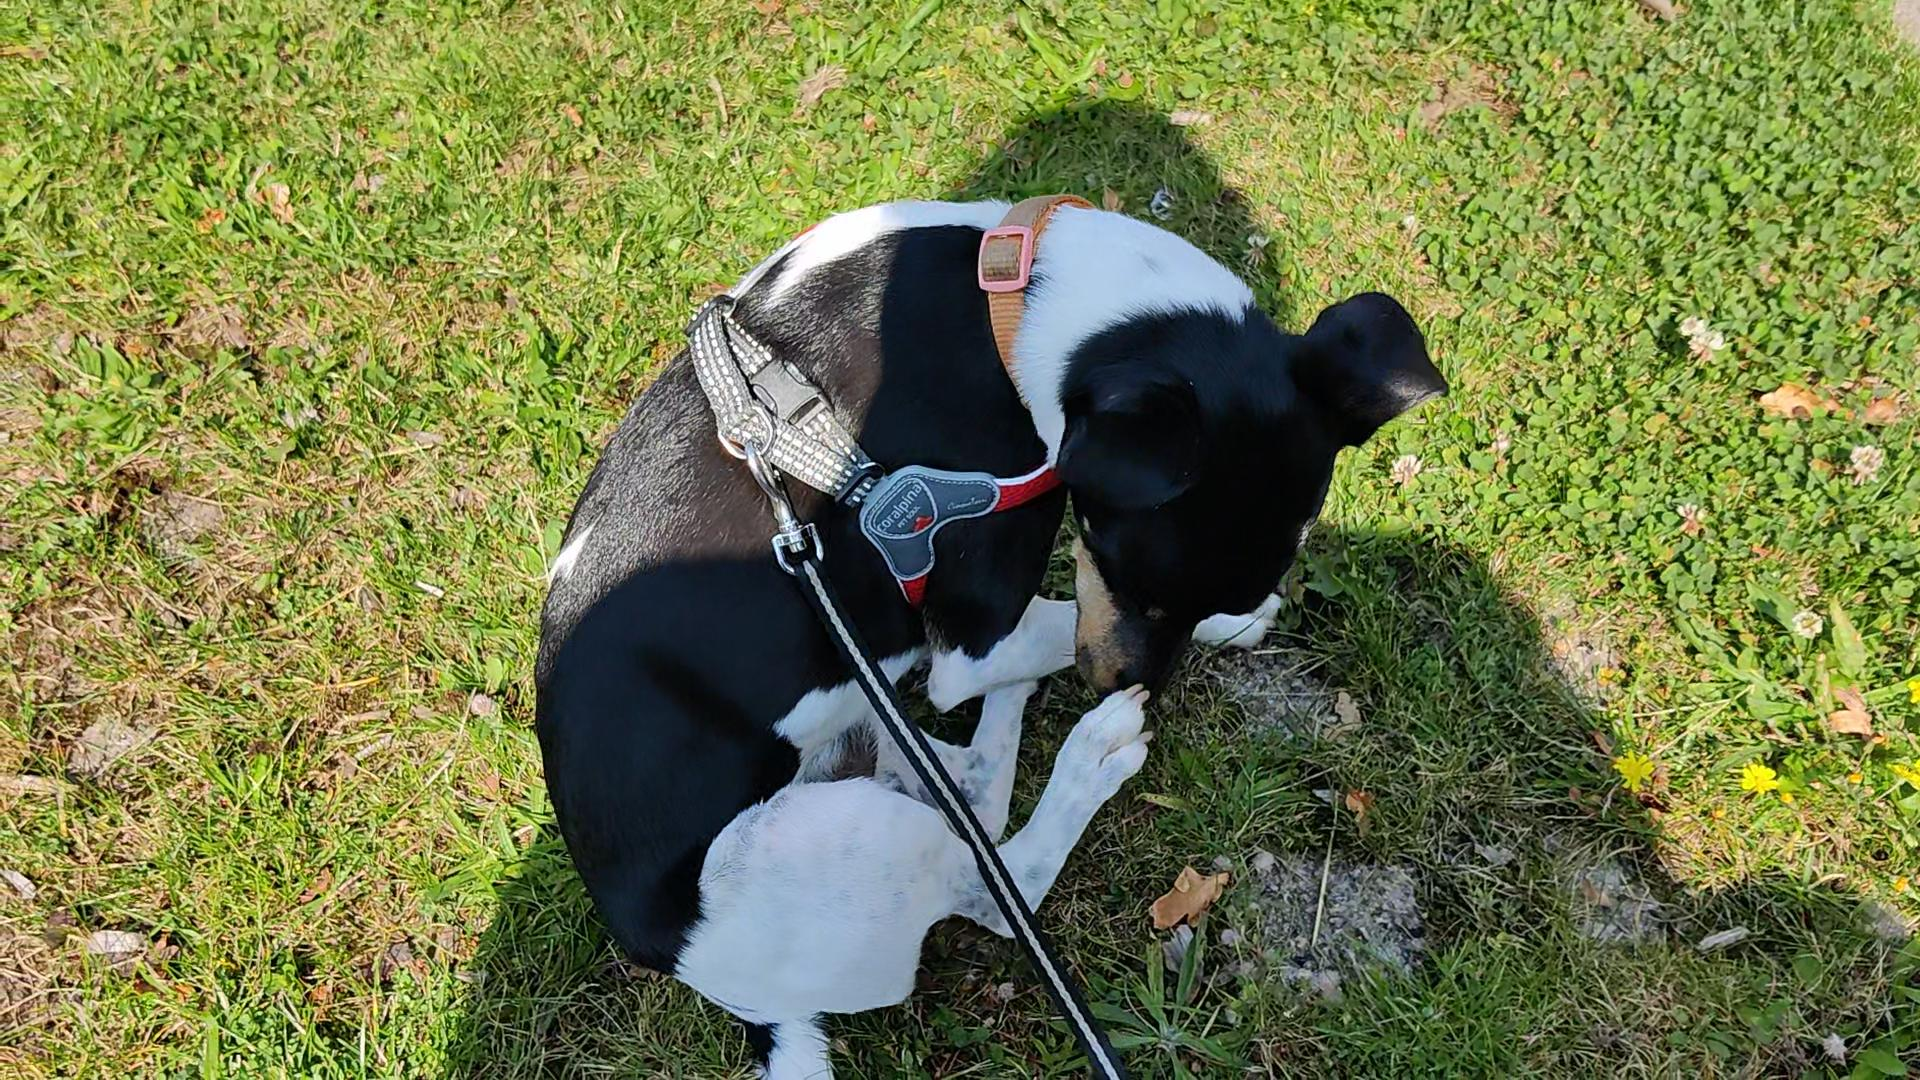Dog: (525, 174, 1461, 1079)
